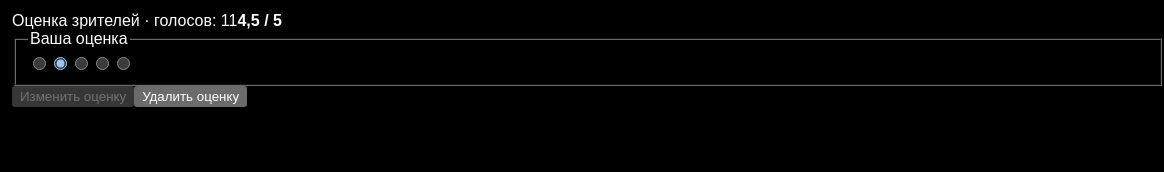
Test: удаляет свою оценку и снова предлагает её поставить
The image size is (1164, 172).
Click the button "Удалить оценку": [191, 96] box [134, 86, 247, 107]
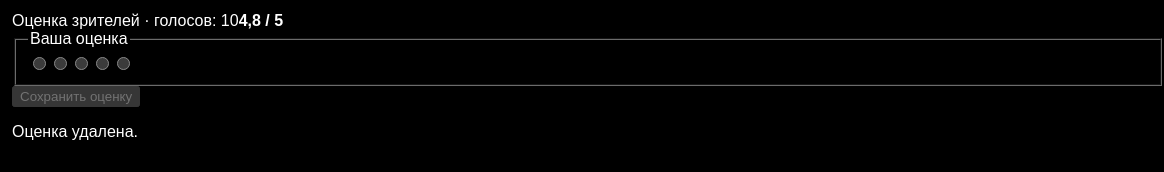
Expected: the text "Оценка удалена." is shown, [12, 123, 138, 140]
Expected: the text "4,8 / 5" is shown, [239, 12, 283, 29]
Expected: the button "Удалить оценку" is gone
